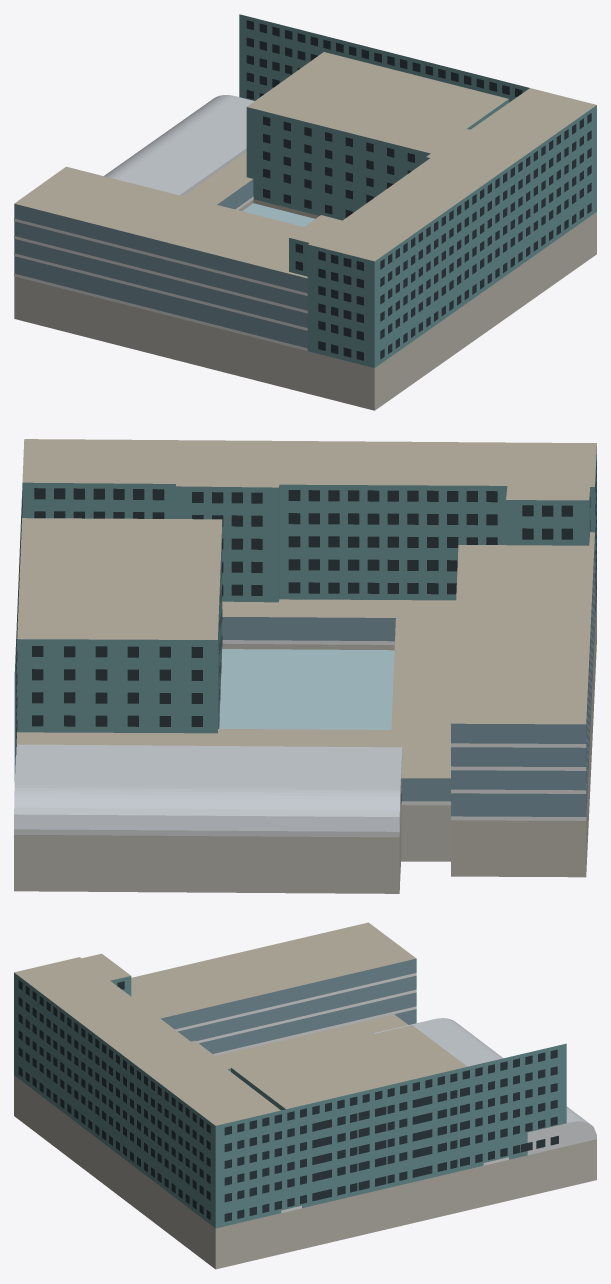
The picture shows the model from 3 angles, top to bottom: view 1: azimuth 30°, elevation 25°; view 2: azimuth 150°, elevation 25°; view 3: azimuth 270°, elevation 25°; orthographic projection. The views are drawn at different scales.
Visible parts, largest first — view 1: storey:3, storey:5, storey:4, storey:1, storey:0, storey:2, storey:-1, storey:-2; view 2: storey:0, storey:4, storey:5, storey:3, storey:-1, storey:1, storey:-2, storey:2; view 3: storey:3, storey:5, storey:4, storey:0, storey:1, storey:2, storey:-2, storey:-1.
Part boxes in pixels (x1,y1,x2,y2): storey:3: (14,48,596,312); storey:5: (239,14,596,278); storey:4: (239,31,596,295); storey:1: (14,83,596,347); storey:0: (14,95,596,367); storey:2: (14,66,596,330); storey:-1: (14,199,596,389); storey:-2: (14,233,596,410); storey:0: (14,562,596,837); storey:4: (14,470,596,716); storey:5: (14,439,596,693); storey:3: (14,493,596,747); storey:-1: (14,589,596,865); storey:1: (14,539,596,793); storey:-2: (14,617,596,893); storey:2: (14,516,596,770); storey:3: (14,922,566,1175); storey:5: (14,953,566,1141); storey:4: (14,989,566,1158); storey:0: (14,1009,596,1228); storey:1: (14,992,570,1208); storey:2: (14,975,566,1192); storey:-2: (14,1096,596,1269); storey:-1: (14,1075,596,1248).
Size of the model in its own units: 101 by 28.75 by 106.
